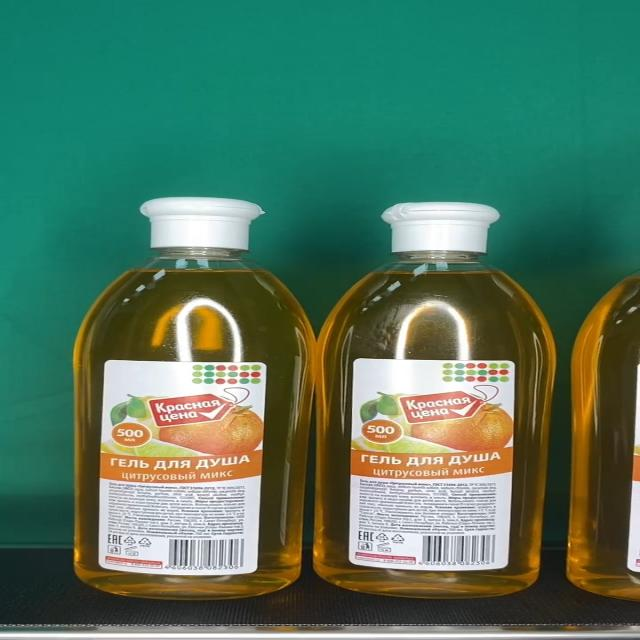Bottle: (72, 198, 317, 600), (316, 202, 556, 596)
Cap: (139, 198, 264, 248), (381, 202, 501, 253)
